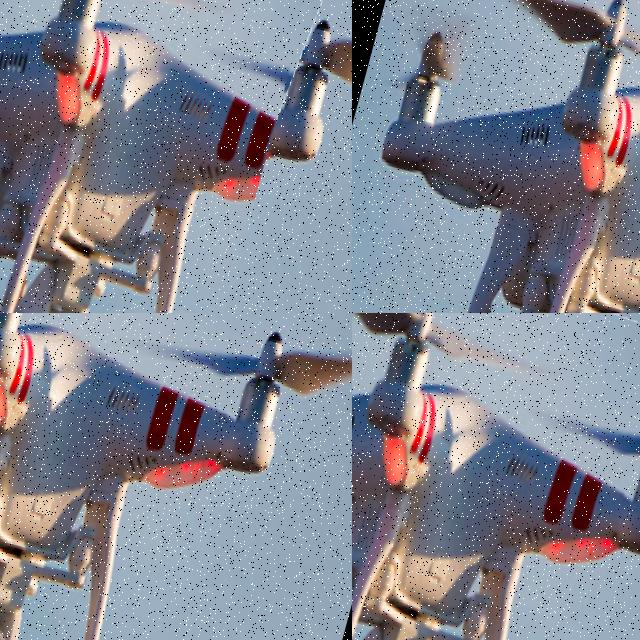drone: (0, 0, 325, 313), (352, 313, 640, 640)
